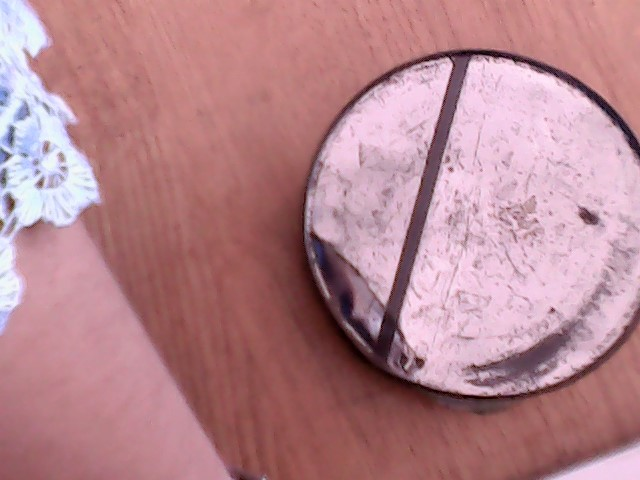Metal: (279, 55, 640, 411)
